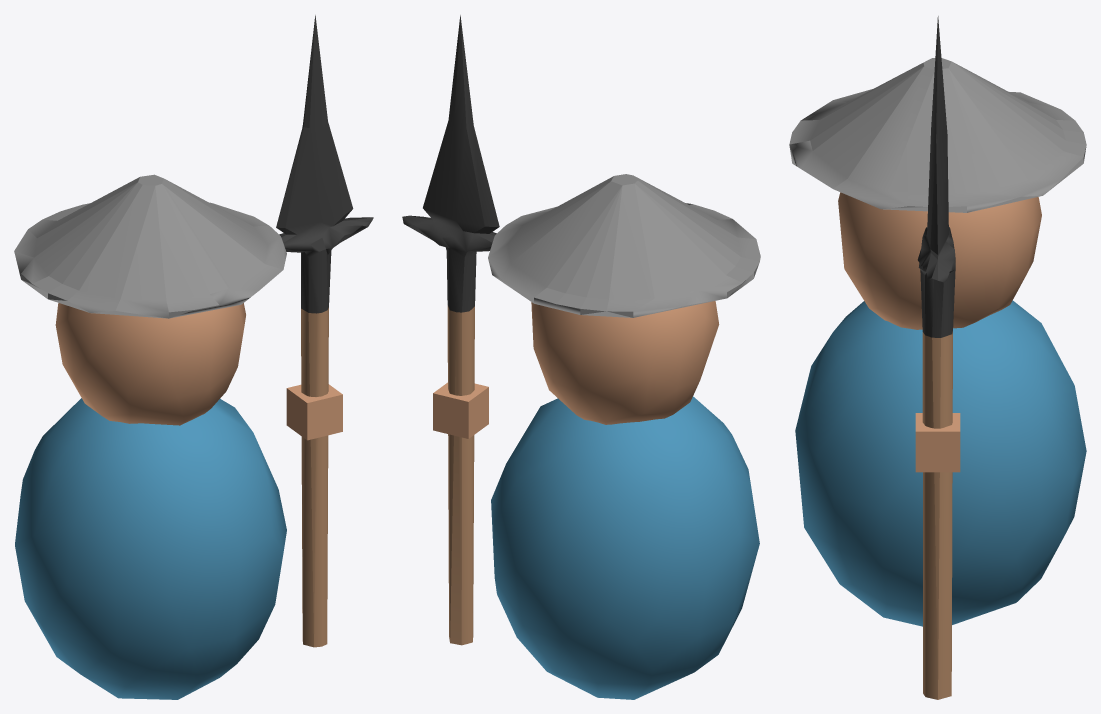
The model's file is Unit_Blue_LOD1.fbx.
The picture shows the model from 3 angles, left to right: view 1: azimuth 30°, elevation 25°; view 2: azimuth 150°, elevation 25°; view 3: azimuth 270°, elevation 25°; orthographic projection. The views are drawn at different scales.
Visible parts, largest first — view 1: Unit; view 2: Unit; view 3: Unit.
Boxes of the visible parts, bbox=[...] form: Unit: bbox=[14, 15, 373, 699]; Unit: bbox=[402, 15, 760, 699]; Unit: bbox=[789, 16, 1086, 699].
Size of the model in its own units: 1.44 by 2.57 by 1.
